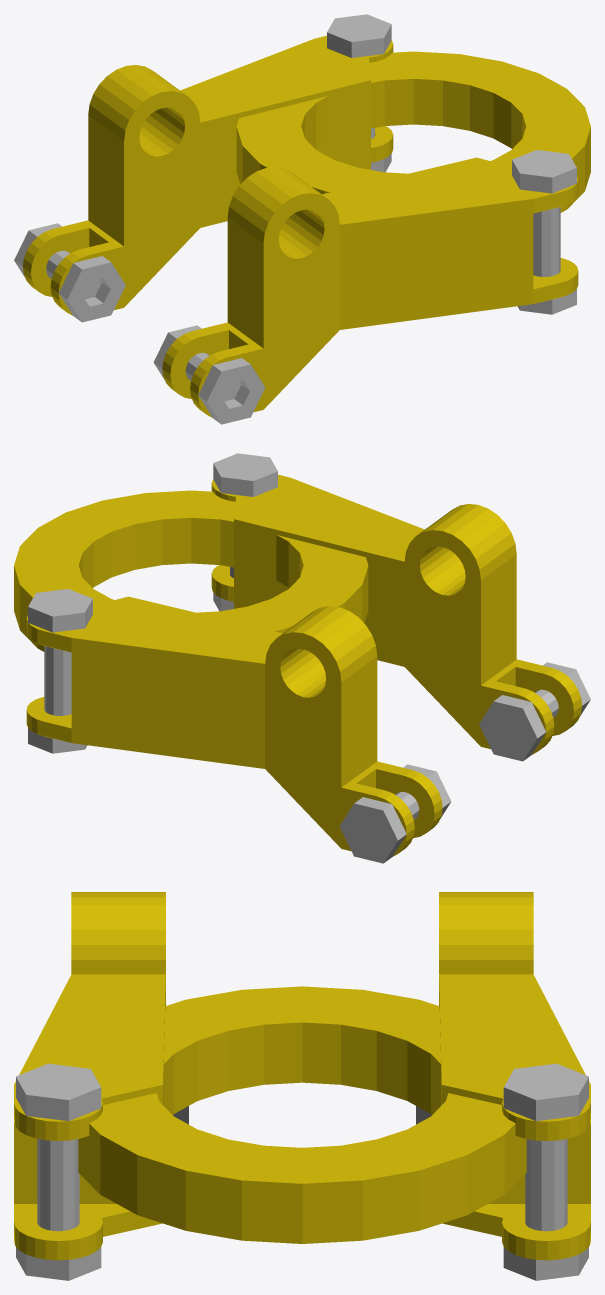
File: huizhuanzhongxin.glb
The picture shows the model from 3 angles, top to bottom: view 1: azimuth 30°, elevation 25°; view 2: azimuth 150°, elevation 25°; view 3: azimuth 270°, elevation 25°; orthographic projection. The views are drawn at different scales.
Visible parts, largest first — view 1: 回转中心, 螺丝7, 螺丝3, 螺丝2, 螺丝6; view 2: 回转中心, 螺丝6, 螺丝2, 螺丝3, 螺丝7; view 3: 回转中心, 螺丝6, 螺丝7.
Part boxes in pixels (x1,y1,x2,y2): 回转中心: [23, 35, 590, 417]; 螺丝7: [512, 150, 576, 314]; 螺丝3: [153, 325, 265, 424]; 螺丝2: [14, 223, 125, 322]; 螺丝6: [327, 14, 391, 172]; 回转中心: [14, 474, 581, 856]; 螺丝6: [28, 589, 92, 753]; 螺丝2: [339, 764, 451, 863]; 螺丝3: [479, 662, 590, 761]; 螺丝7: [213, 453, 277, 611]; 回转中心: [14, 892, 590, 1260]; 螺丝6: [503, 1063, 588, 1280]; 螺丝7: [16, 1063, 101, 1280].
Size of the model in its own units: 1.8 by 0.775 by 1.49.
